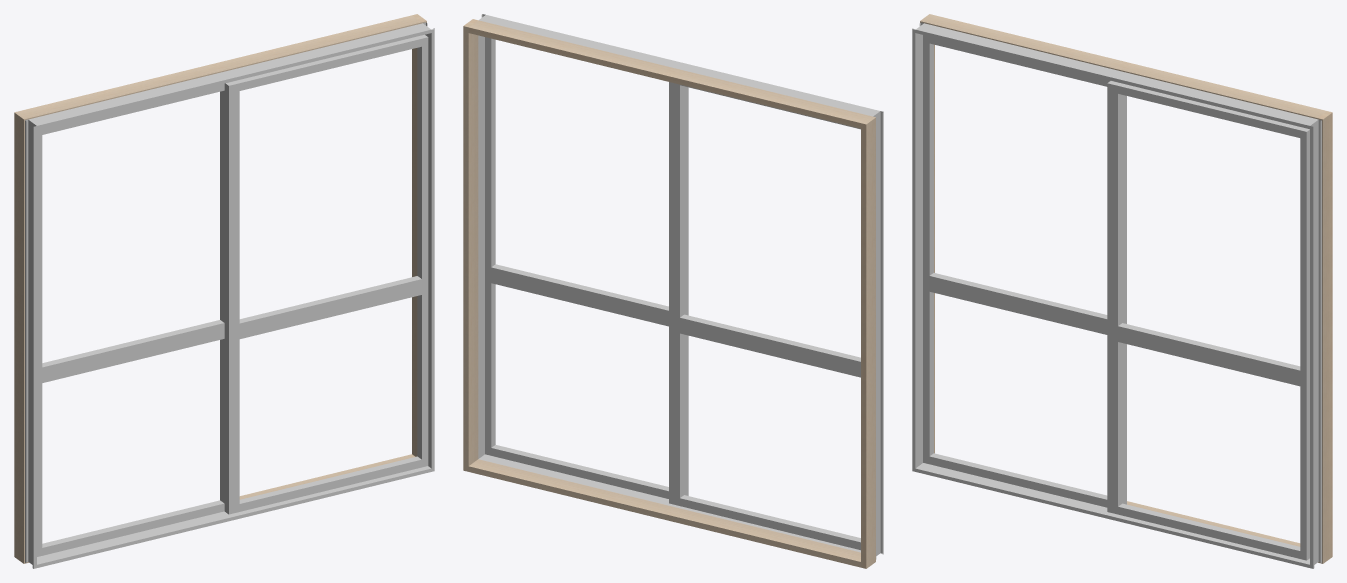
3 views of the same model, side by side, from view 1: azimuth 30°, elevation 25°; view 2: azimuth 150°, elevation 25°; view 3: azimuth 330°, elevation 25° (orthographic).
Parts seen in each view (by area): view 1: 建具; view 2: 建具; view 3: 建具.
Part boxes in pixels (x1=…): 建具: x1=14, y1=14, x2=434, y2=568; 建具: x1=463, y1=14, x2=883, y2=568; 建具: x1=912, y1=14, x2=1332, y2=568.
Size of the model in its own units: 1870 by 148 by 1970.
Materials: 2 (1 with a texture image).
